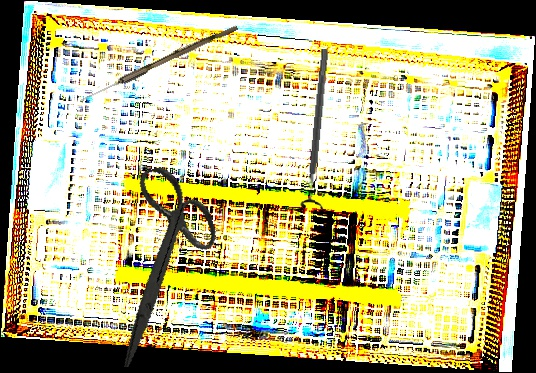Fixation Ring: (298, 47, 338, 210)
Iris Scissors: (74, 157, 245, 368)
Surgical Spoon: (78, 21, 239, 106)
